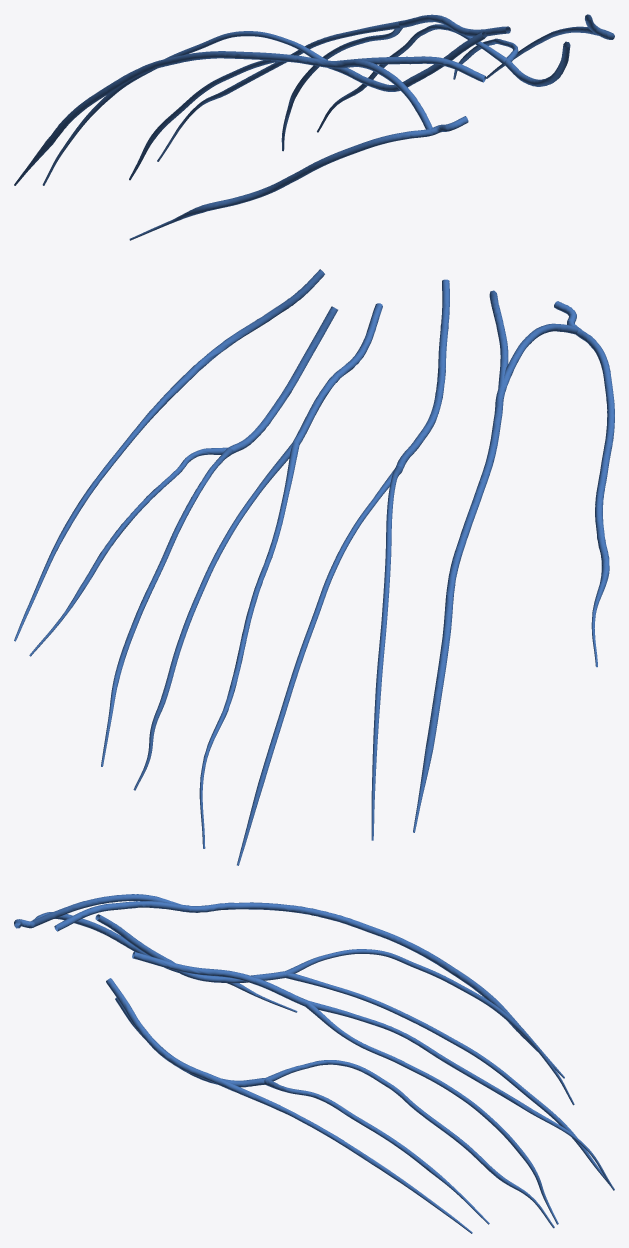
The picture shows the model from 3 angles, top to bottom: view 1: azimuth 30°, elevation 25°; view 2: azimuth 150°, elevation 25°; view 3: azimuth 270°, elevation 25°; orthographic projection. The views are drawn at different scales.
Visible parts, largest first — view 1: 右侧指掌侧静脉; view 2: 右侧指掌侧静脉; view 3: 右侧指掌侧静脉.
Boxes of the visible parts, box(x1,y1,x2,y2) form: 右侧指掌侧静脉: box(14, 14, 614, 240); 右侧指掌侧静脉: box(14, 269, 614, 865); 右侧指掌侧静脉: box(14, 894, 614, 1233).
Bounding box in the file's own units: 0.1472 × 0.1019 × 0.1806.
